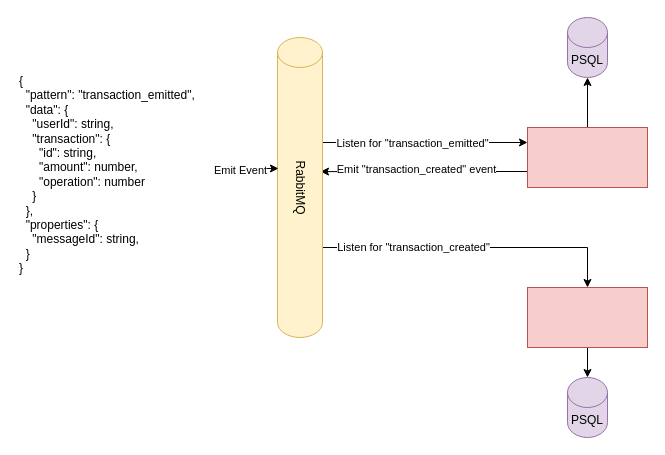
Image size: 665x455. Some labels were removed from this diagram. Here are the shapes that lost their labels. From the top down, the centre of each, then its label:
pixel 587 157: Wallet Service
pixel 587 317: Statement Service
